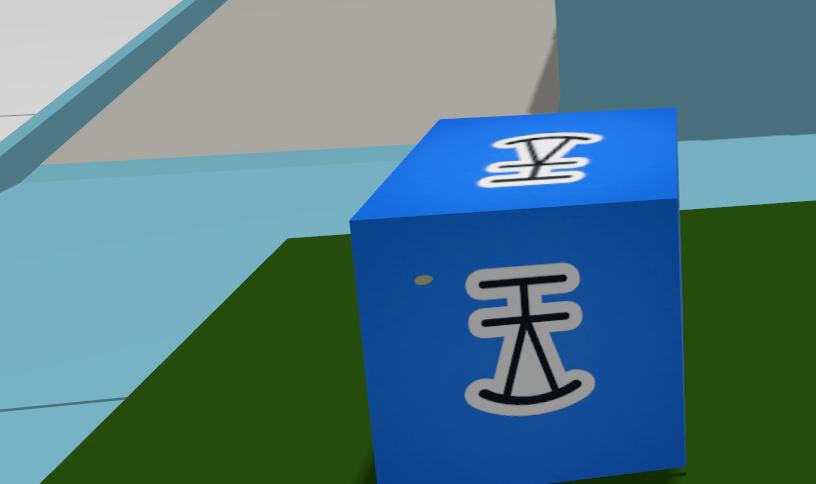KFS_REAL: (356, 99, 686, 480), (466, 263, 594, 416), (478, 132, 602, 186)
